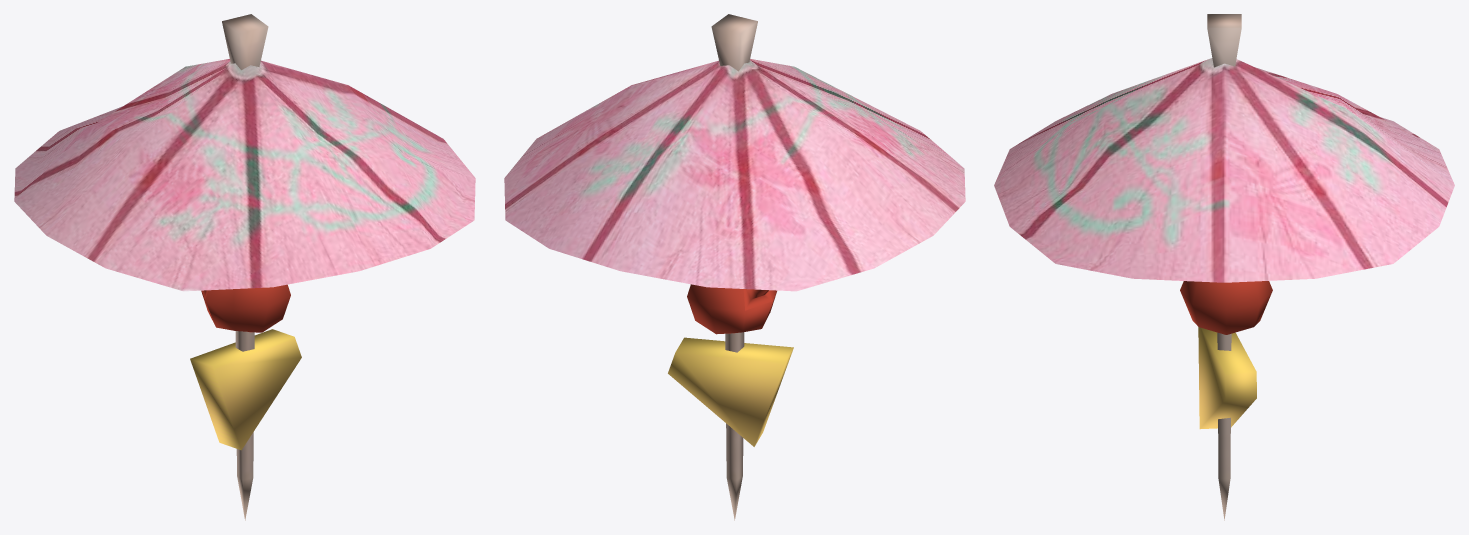
The model's file is umbrella.glb.
The picture shows the model from 3 angles, left to right: view 1: azimuth 30°, elevation 25°; view 2: azimuth 150°, elevation 25°; view 3: azimuth 270°, elevation 25°; orthographic projection.
Visible parts, largest first — view 1: Plane, Cube.003, Cube.002, Cube.001; view 2: Plane, Cube.003, Cube.001, Cube.002; view 3: Plane, Cube.003, Cube.002, Cube.001.
Boxes of the visible parts, x1,y1,x2,y2 form: Plane: [14, 59, 475, 291]; Cube.003: [190, 329, 301, 450]; Cube.002: [201, 284, 290, 332]; Cube.001: [222, 14, 268, 520]; Plane: [504, 59, 965, 291]; Cube.003: [668, 337, 793, 446]; Cube.001: [711, 14, 757, 520]; Cube.002: [687, 284, 776, 334]; Plane: [994, 58, 1454, 282]; Cube.003: [1198, 327, 1256, 429]; Cube.002: [1180, 281, 1272, 334]; Cube.001: [1207, 14, 1241, 520].
Size of the model in its own units: 0.6647 by 0.7951 by 0.6647.
Materials: 2 (2 with a texture image).
